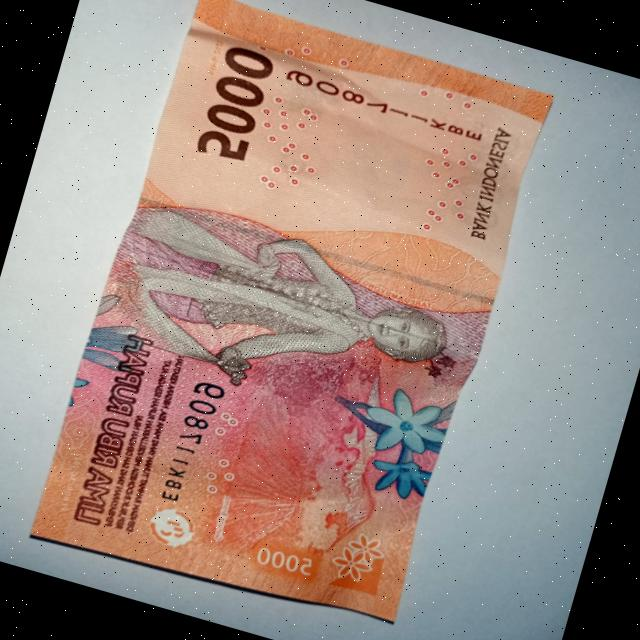5K: (4, 0, 595, 640)
